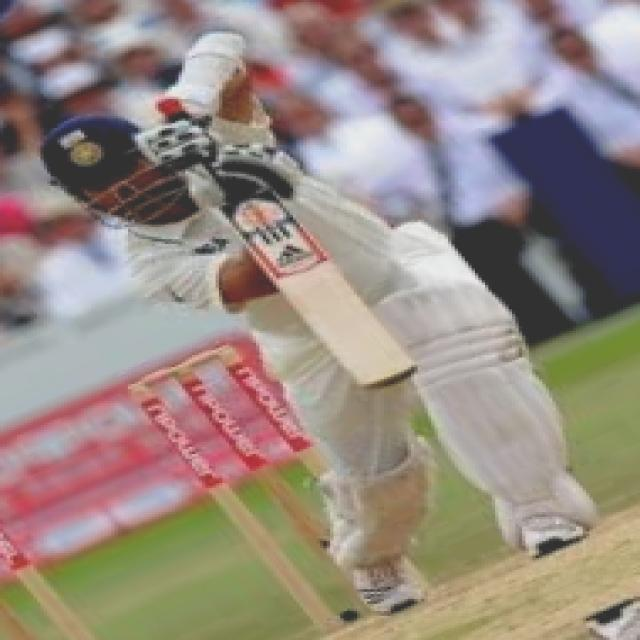bat: (211, 190, 421, 395)
toe: (361, 363, 420, 392)
